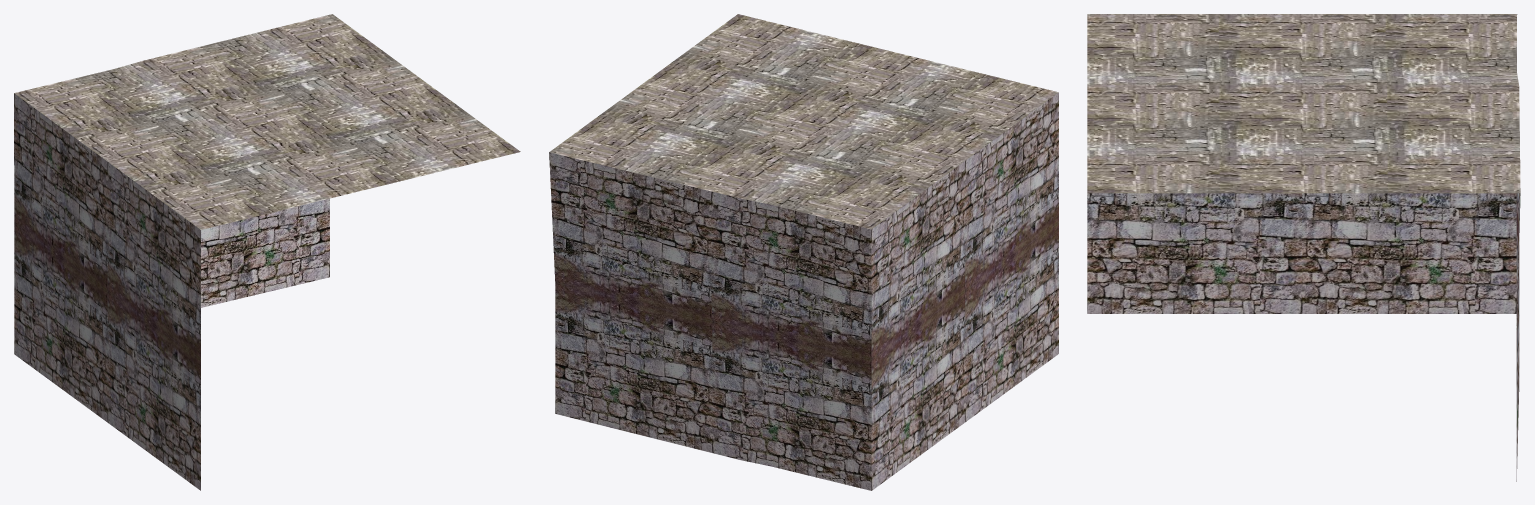
3 views of the same model, side by side, from view 1: azimuth 30°, elevation 25°; view 2: azimuth 150°, elevation 25°; view 3: azimuth 270°, elevation 25° (orthographic). The views are drawn at different scales.
Parts seen in each view (by area): view 1: Shape2; view 2: Shape2; view 3: Shape2.
Boxes of the visible parts, box(x1,y1,x2,y2) form: Shape2: box(14, 14, 520, 490); Shape2: box(549, 14, 1058, 490); Shape2: box(1087, 14, 1520, 481).
Size of the model in its own units: 512 by 399 by 523.
